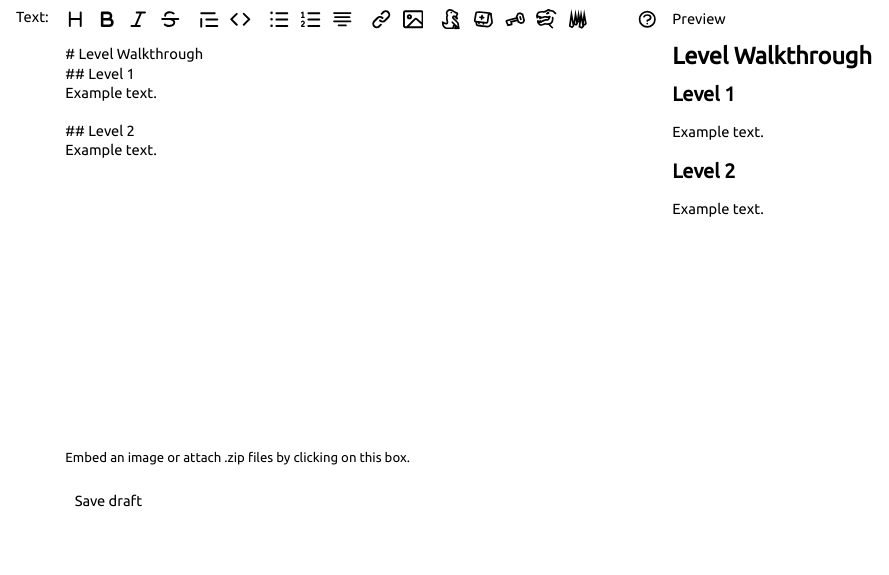
Test case: WalkthroughForm › maps a server field error onto the field
What coordinates should you click on to do the following:
click the button "Save draft"
I would click on:
 (108, 501)
Its box is [58,484,159,517].
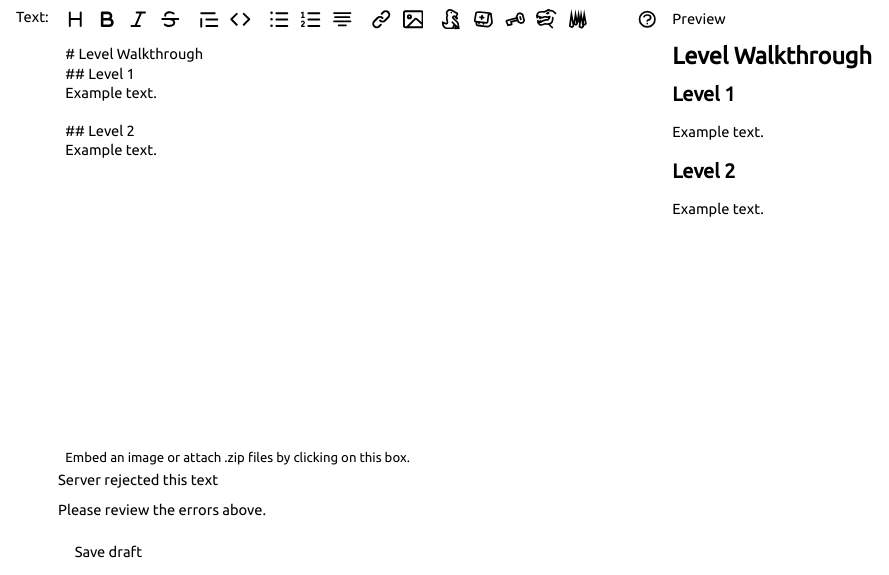
Now the text "Server rejected this text" is shown, box [58,471,218,488]
